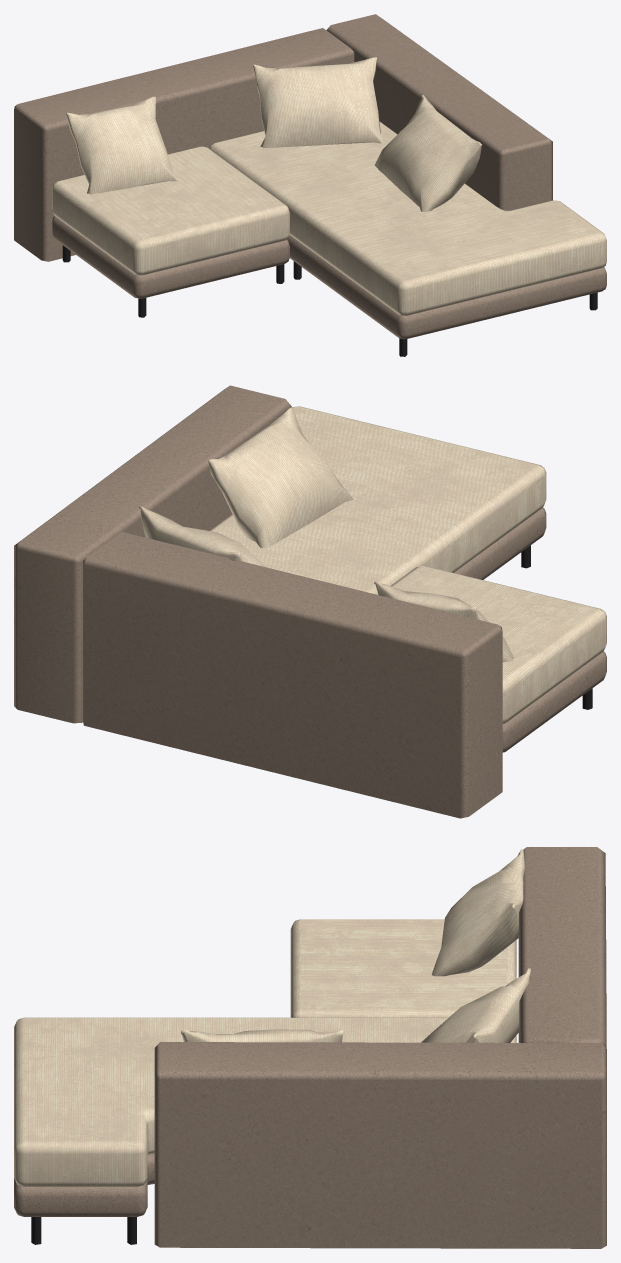
Rendered from sofa_013.fbx.
The picture shows the model from 3 angles, top to bottom: view 1: azimuth 30°, elevation 25°; view 2: azimuth 150°, elevation 25°; view 3: azimuth 270°, elevation 25°; orthographic projection. The views are drawn at different scales.
Parts seen in each view (by area): view 1: sofa_013; view 2: sofa_013; view 3: sofa_013.
Part boxes in pixels (bbox=[...]): sofa_013: bbox=[14, 14, 606, 356]; sofa_013: bbox=[14, 385, 606, 818]; sofa_013: bbox=[14, 847, 606, 1248].
Bounding box in the file's own units: 265 × 287 × 98.5.
